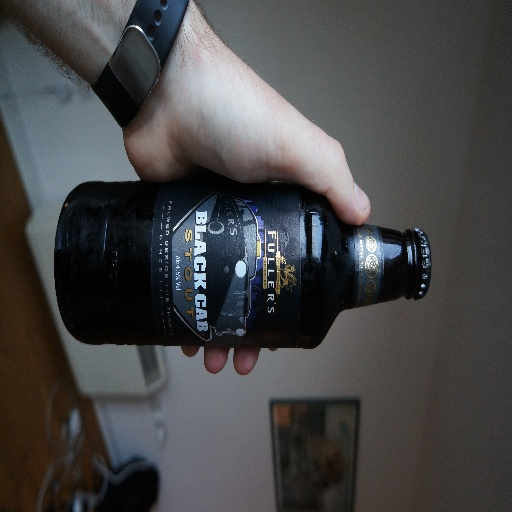hand: (120, 47, 375, 373)
